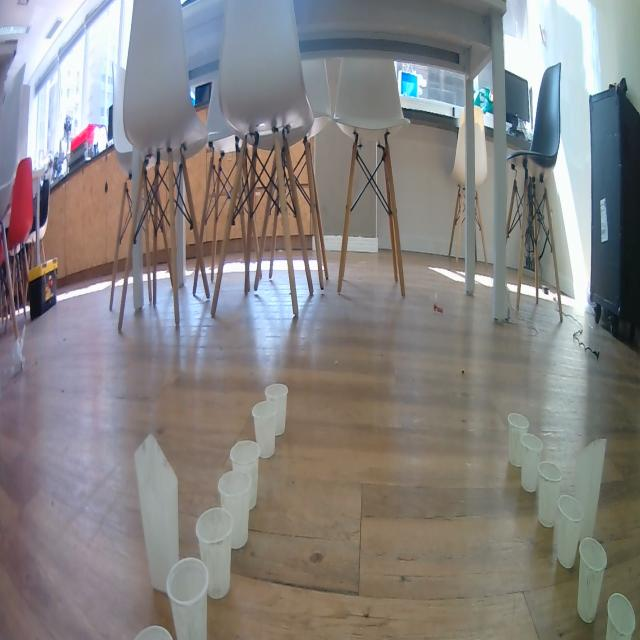erva_daninha: (134, 434, 180, 596), (576, 438, 606, 540)
planta: (195, 506, 233, 600), (166, 557, 209, 640), (218, 470, 252, 550), (577, 536, 607, 624), (555, 494, 584, 570), (230, 440, 260, 511), (537, 459, 562, 528), (252, 400, 278, 459), (606, 592, 637, 640), (521, 433, 543, 493), (265, 382, 288, 437), (508, 412, 529, 469), (134, 624, 173, 640)
